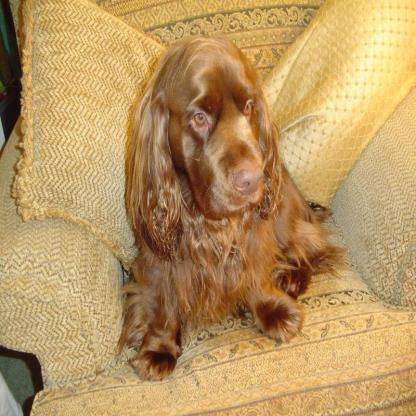Sussex_spaniel: (123, 35, 345, 378)
